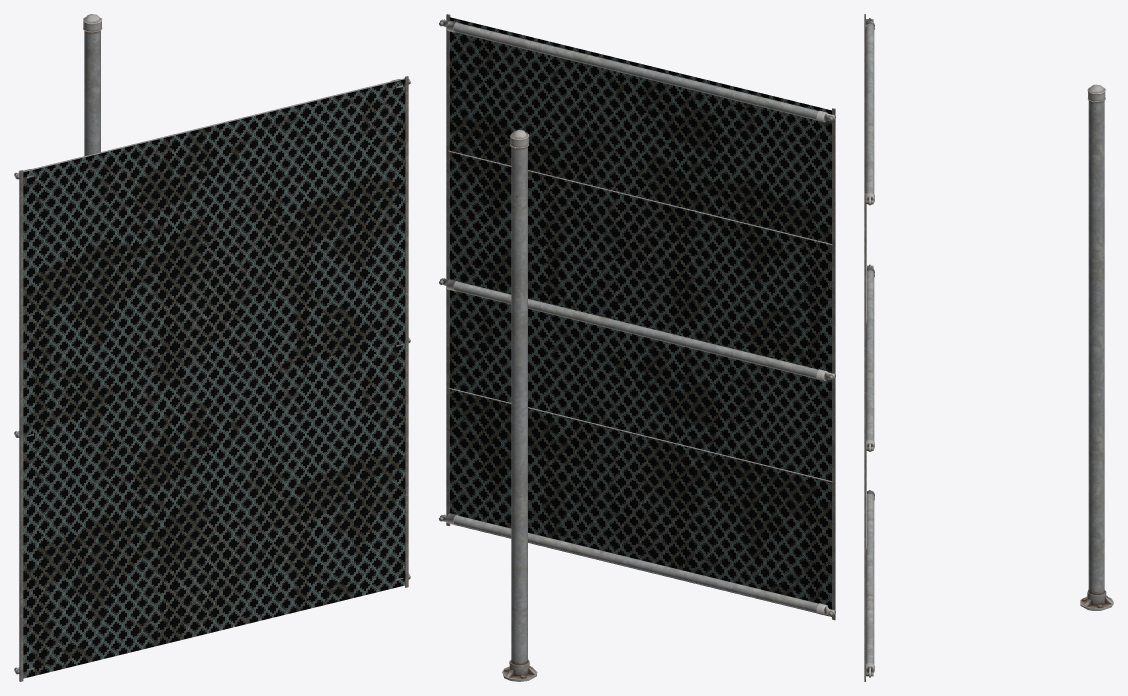
The model's file is fence.glb.
The picture shows the model from 3 angles, left to right: view 1: azimuth 30°, elevation 25°; view 2: azimuth 150°, elevation 25°; view 3: azimuth 270°, elevation 25°; orthographic projection. The views are drawn at different scales.
Visible parts, largest first — view 1: modular_chainlink_fence_double, modular_chainlink_fence_post; view 2: modular_chainlink_fence_double, modular_chainlink_fence_post; view 3: modular_chainlink_fence_post, modular_chainlink_fence_double.
Part boxes in pixels (x1,y1,x2,y2): modular_chainlink_fence_double: (14,76,410,681); modular_chainlink_fence_post: (83,14,102,155); modular_chainlink_fence_double: (439,14,835,620); modular_chainlink_fence_post: (502,129,537,681); modular_chainlink_fence_post: (1080,84,1113,610); modular_chainlink_fence_double: (864,14,874,681).
Size of the model in its own units: 1.91 by 2.52 by 1.1.
2 materials, 2 textured.
